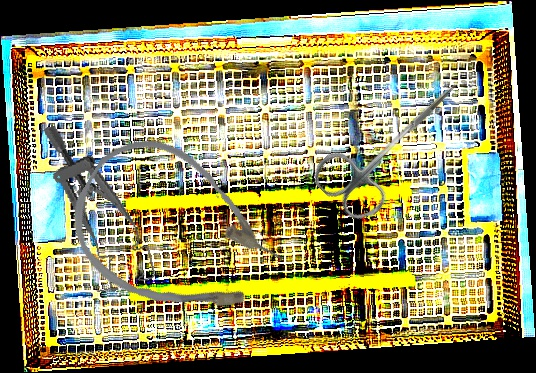Cannula: (48, 115, 305, 354)
Iris Scissors: (307, 56, 480, 229)
Speculum: (40, 110, 159, 299)
